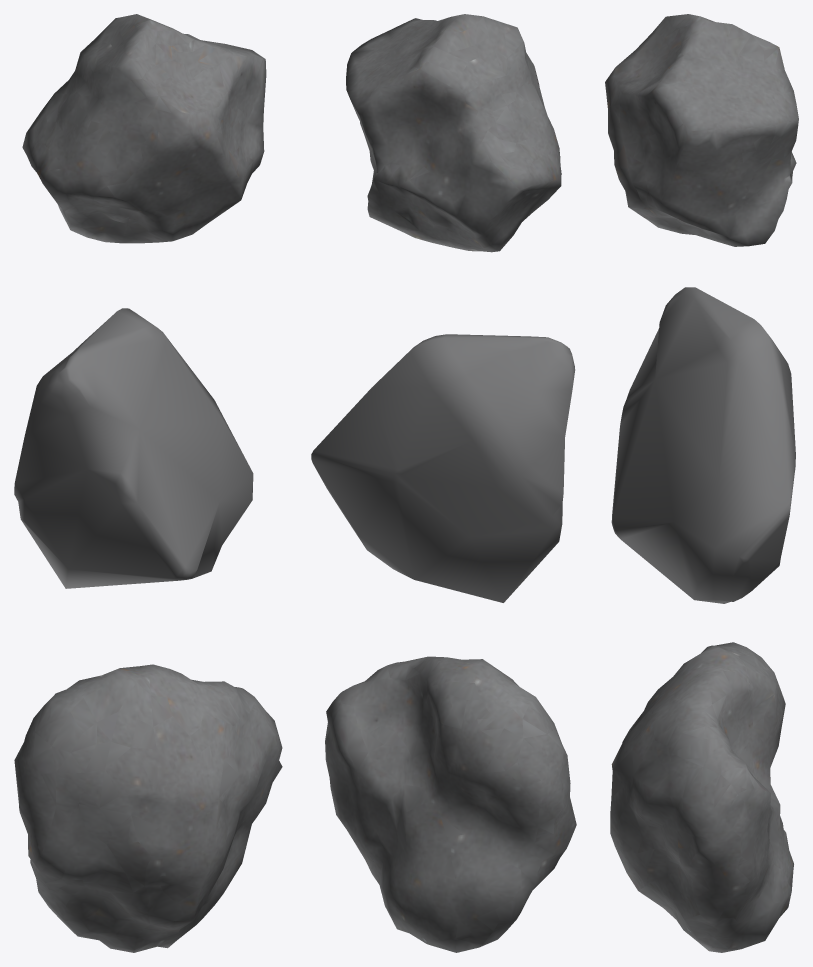
The model's file is rock-divider.obj.
The picture shows the model from 3 angles, left to right: view 1: azimuth 30°, elevation 25°; view 2: azimuth 150°, elevation 25°; view 3: azimuth 270°, elevation 25°; orthographic projection. The views are drawn at different scales.
Bounding box in the file's own units: 0.5209 × 1.86 × 0.3526.
Materials: 1 (1 with a texture image).
